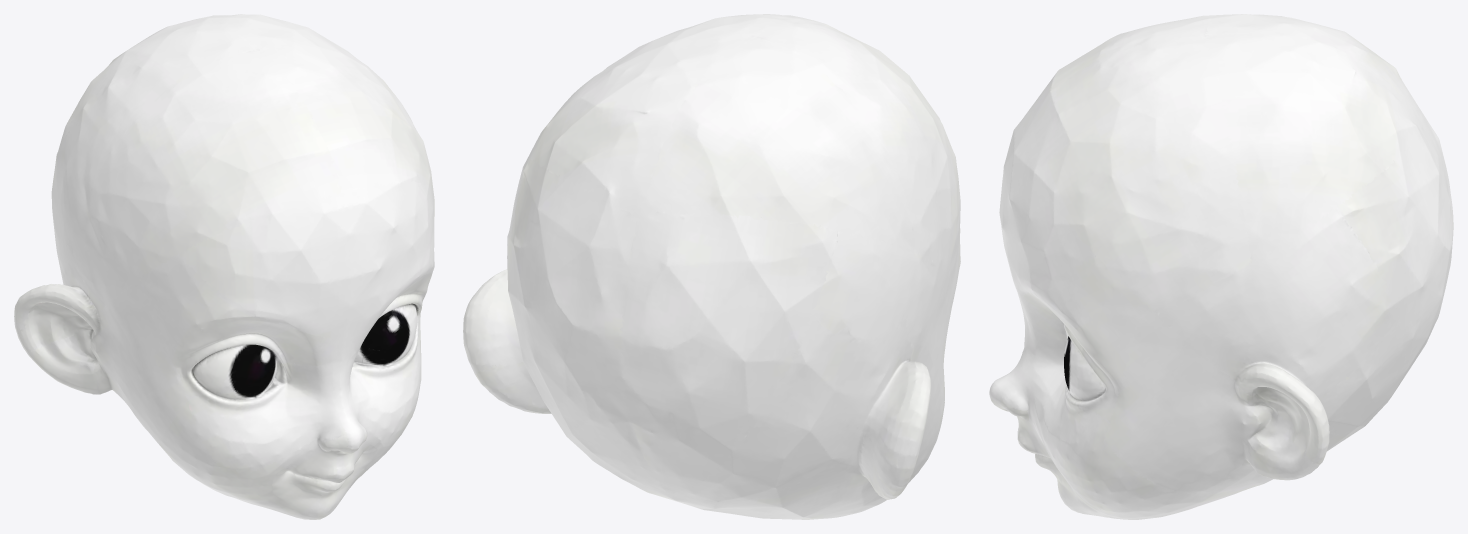
The model's file is cabeza.glb.
3 renders of one model, left to right at view 1: azimuth 30°, elevation 25°; view 2: azimuth 150°, elevation 25°; view 3: azimuth 270°, elevation 25°, orthographic. The views are drawn at different scales.
Parts seen in each view (by area): view 1: mesh_node; view 2: mesh_node; view 3: mesh_node.
Boxes of the visible parts, <box> form: mesh_node: <box>14,14,434,519</box>; mesh_node: <box>463,14,960,519</box>; mesh_node: <box>989,14,1453,519</box>.
Bounding box in the file's own units: 0.4354 × 0.46 × 0.407.
Materials: 1 (1 with a texture image).
